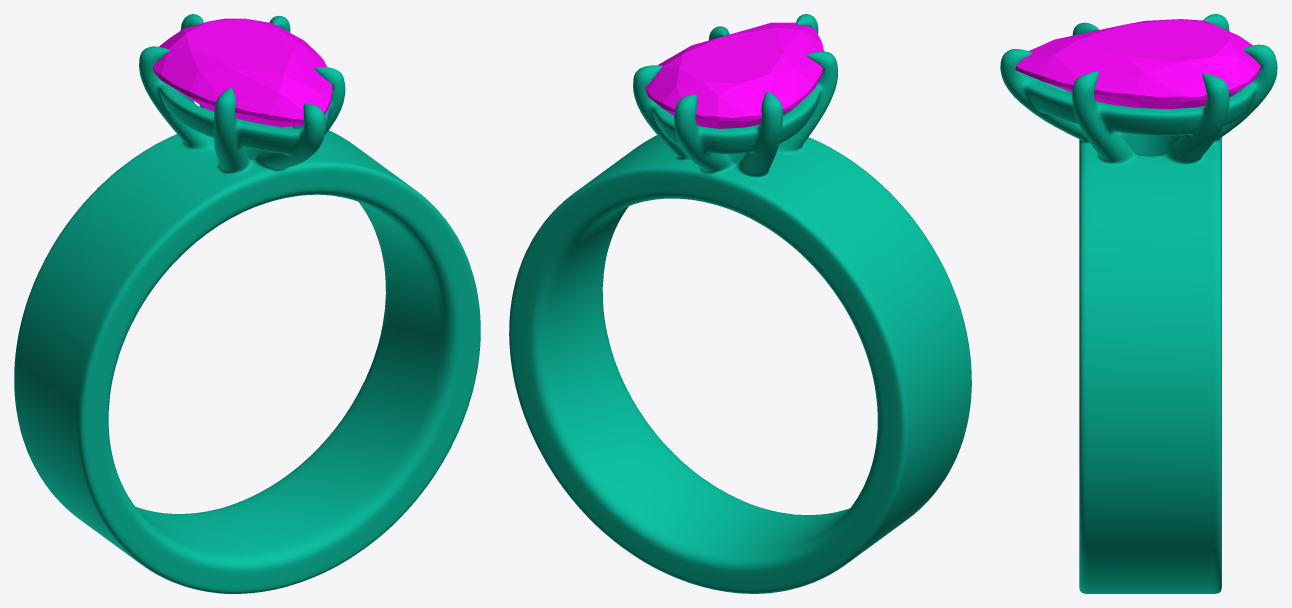
Rendered from BE1258_PE_200ct_RENDER.glb.
3 views of the same model, side by side, from view 1: azimuth 30°, elevation 25°; view 2: azimuth 150°, elevation 25°; view 3: azimuth 270°, elevation 25° (orthographic). The views are drawn at different scales.
Visible parts, largest first — view 1: Metal 01, CS_Diamond_Pear; view 2: Metal 01, CS_Diamond_Pear; view 3: Metal 01, CS_Diamond_Pear.
Part boxes in pixels (bbox=[...]): Metal 01: bbox=[14, 14, 480, 593]; CS_Diamond_Pear: bbox=[153, 18, 332, 126]; Metal 01: bbox=[509, 14, 971, 593]; CS_Diamond_Pear: bbox=[645, 22, 823, 128]; Metal 01: bbox=[1000, 14, 1277, 593]; CS_Diamond_Pear: bbox=[1015, 19, 1260, 108].
Size of the model in its own units: 20.1 by 24.64 by 11.65.
